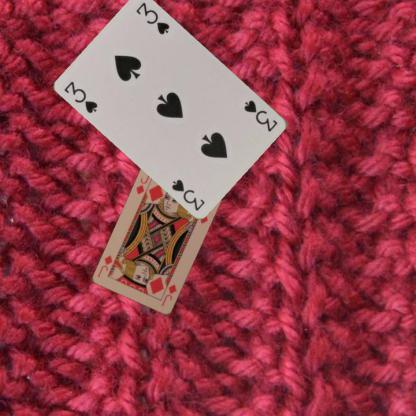3s: (62, 78, 100, 115), (242, 98, 279, 133)
Jd: (158, 282, 178, 307), (134, 170, 152, 196)
